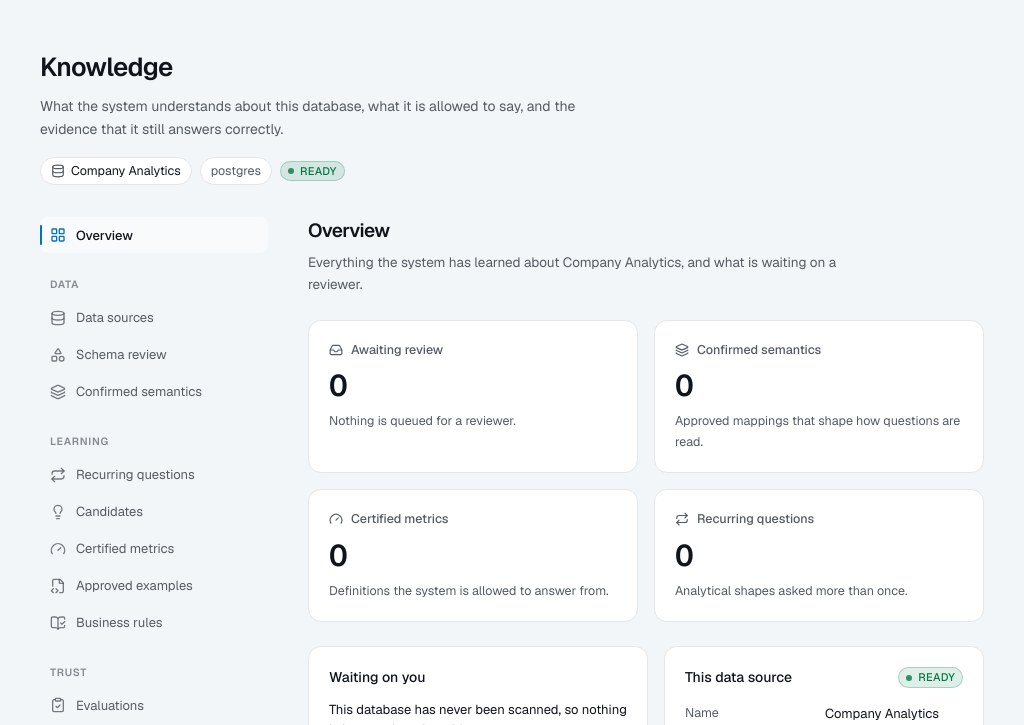
Test: Semantic reindex › reports the outcome to the reviewer
The width and height of the screenshot is (1024, 725).
Click the tab "Data sources".
click(154, 318)  # box 40,300 -> 268,336
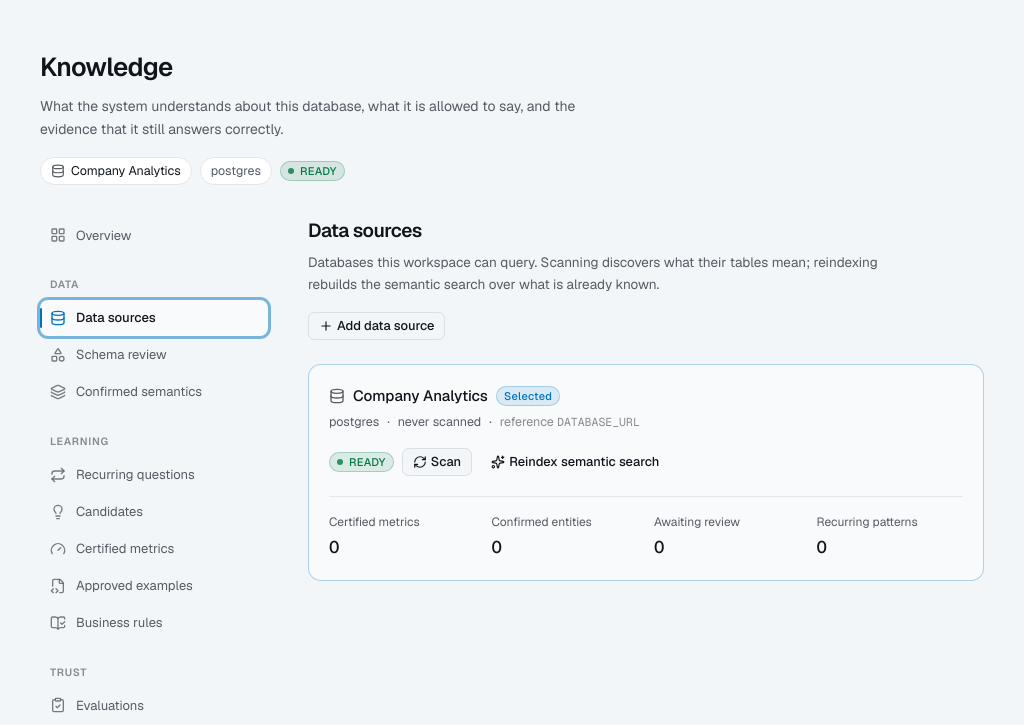
Click the button "Reindex semantic search".
click(575, 462)  # box 480,448 -> 670,476
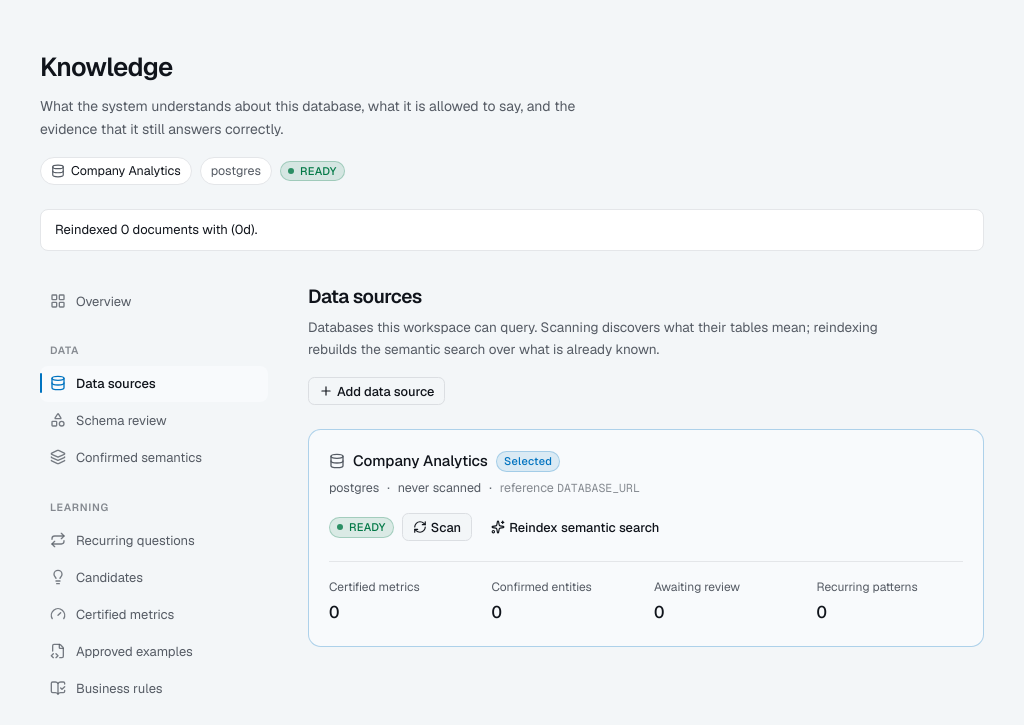
Now the message "Reindexed 0 documents with (0d)." is shown, box 40,209 -> 984,251
